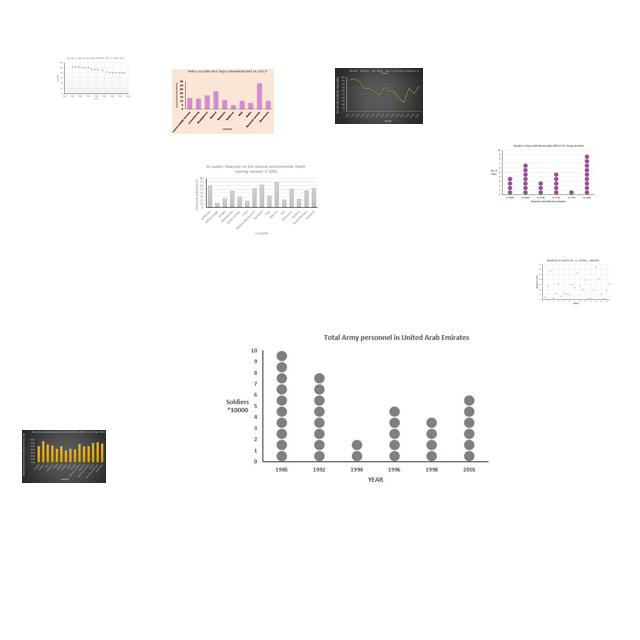Graph: (216, 328, 495, 490), (192, 162, 320, 238), (487, 143, 597, 205), (172, 69, 274, 134), (335, 68, 423, 124), (22, 430, 106, 483), (536, 259, 612, 305), (55, 55, 131, 100)
